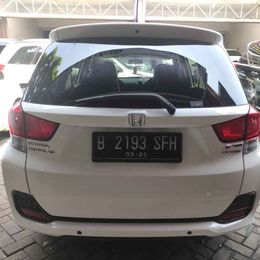plate: (91, 133, 181, 165)
